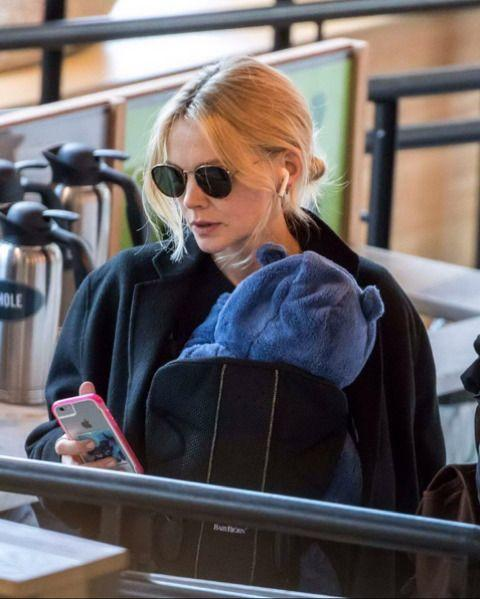earphone: (271, 164, 295, 199)
